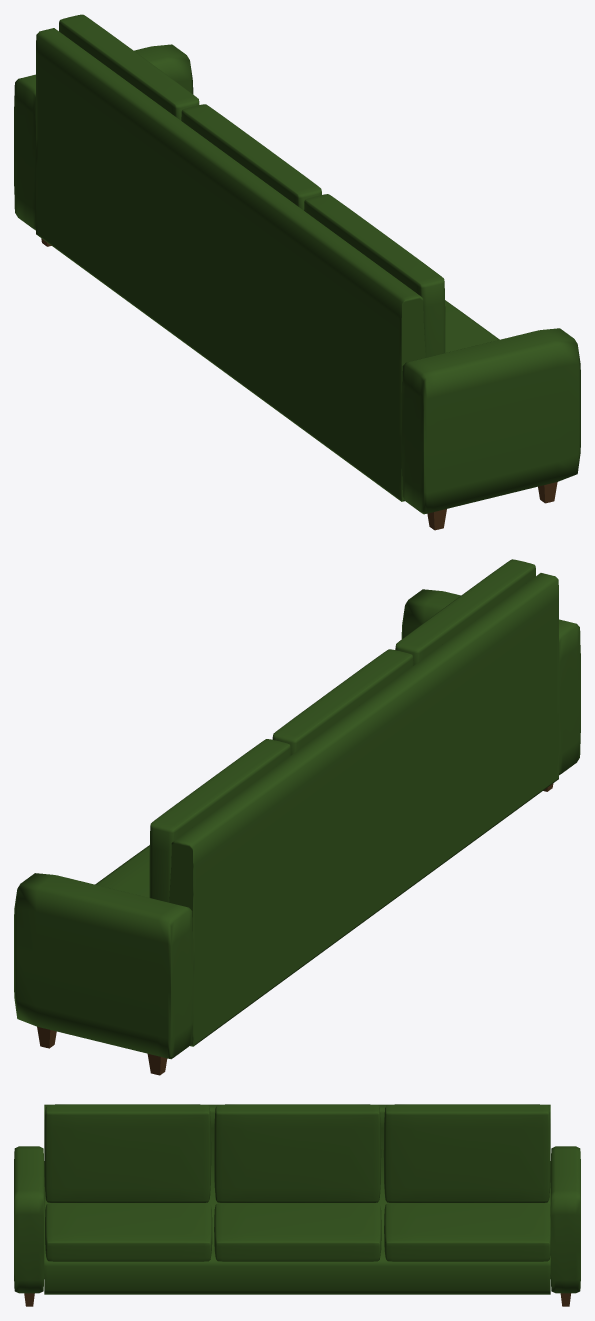
The model's file is SofaBig.fbx.
3 views of the same model, one above another, from view 1: azimuth 30°, elevation 25°; view 2: azimuth 150°, elevation 25°; view 3: azimuth 270°, elevation 25° (orthographic). The views are drawn at different scales.
Parts seen in each view (by area): view 1: Sofa Big; view 2: Sofa Big; view 3: Sofa Big.
Part boxes in pixels (left/top/right/bottom): Sofa Big: left=14, top=14, right=580, bottom=530; Sofa Big: left=14, top=559, right=580, bottom=1075; Sofa Big: left=14, top=1104, right=580, bottom=1306.
Size of the model in its own units: 113 by 158 by 500.
